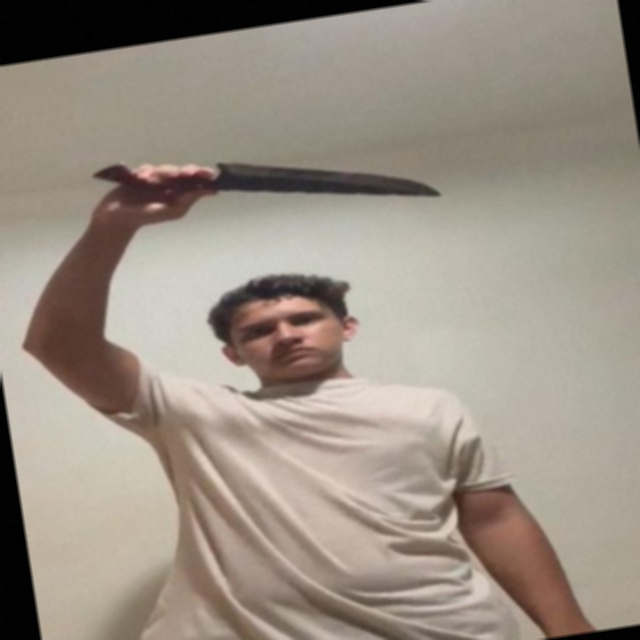Sharp-Object: (212, 128, 441, 224)
